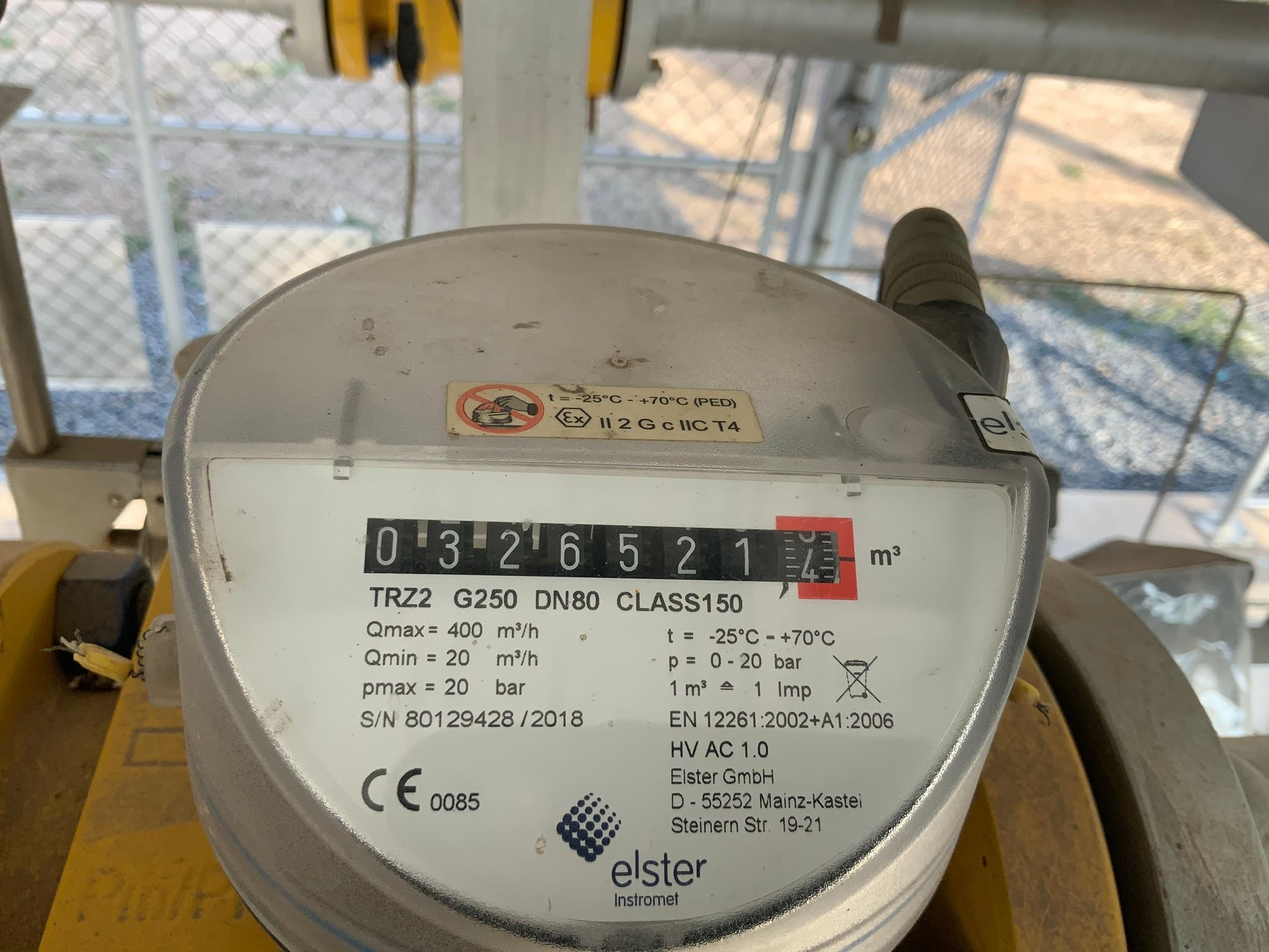analog_dial: (357, 489, 866, 605)
